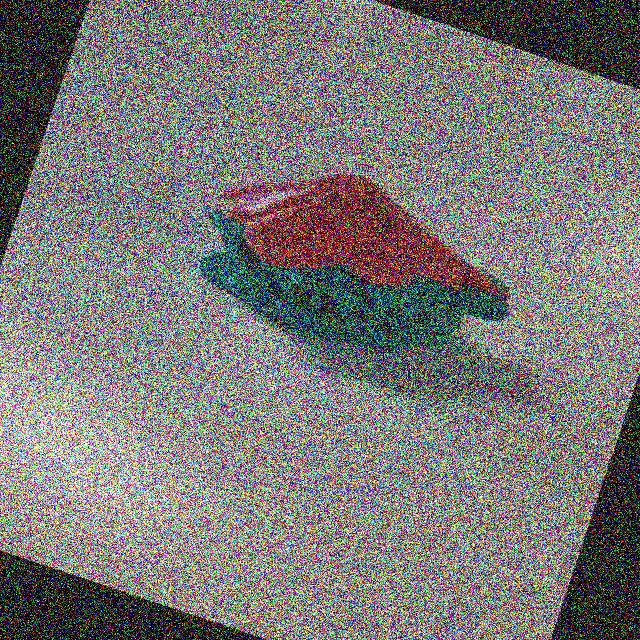House: (156, 117, 547, 409)
